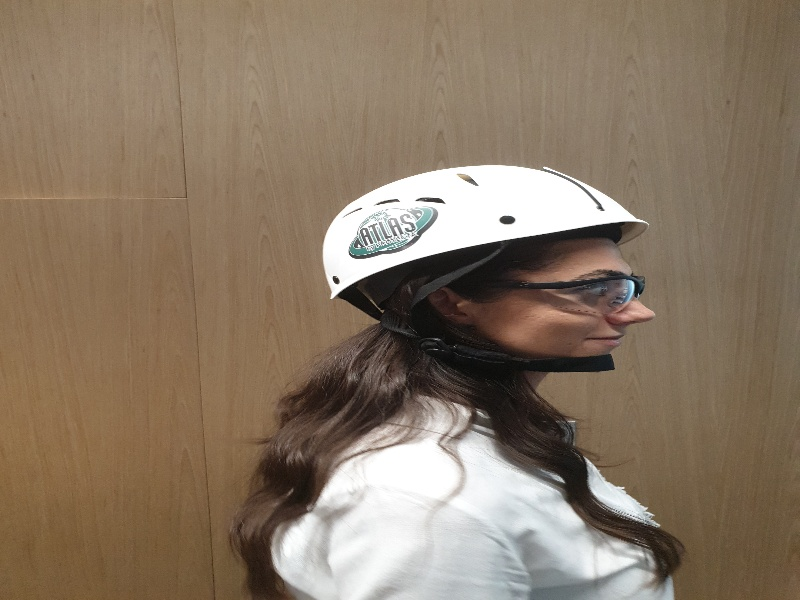Baret: (322, 165, 651, 271)
Gozluk: (477, 273, 646, 315)
